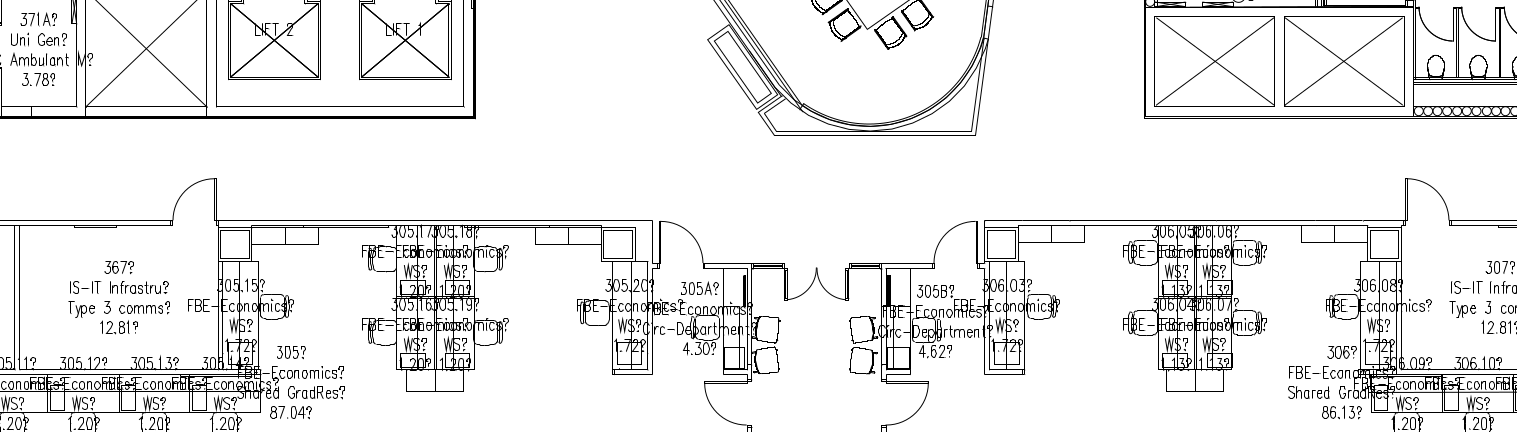door: (780, 253, 859, 307), (167, 161, 220, 235), (654, 198, 707, 272), (922, 215, 983, 275), (1396, 160, 1457, 220), (882, 377, 934, 432), (696, 374, 748, 429), (1416, 1, 1457, 49), (1459, 1, 1500, 48)
